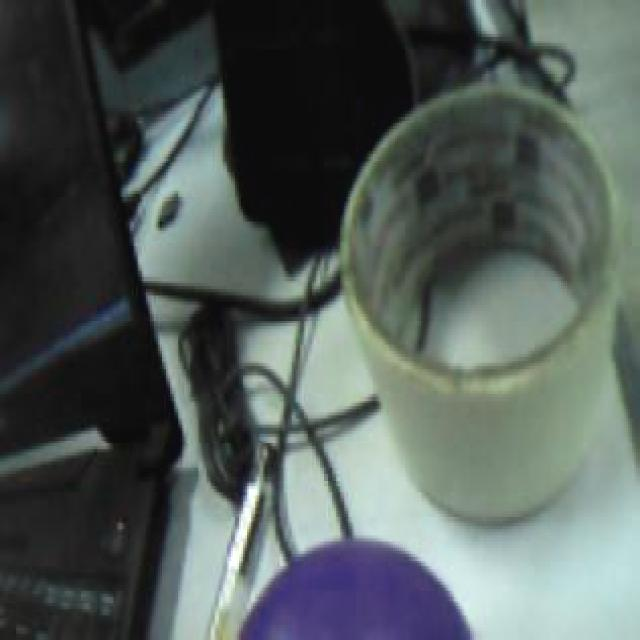BallPurple: (233, 538, 472, 640)
